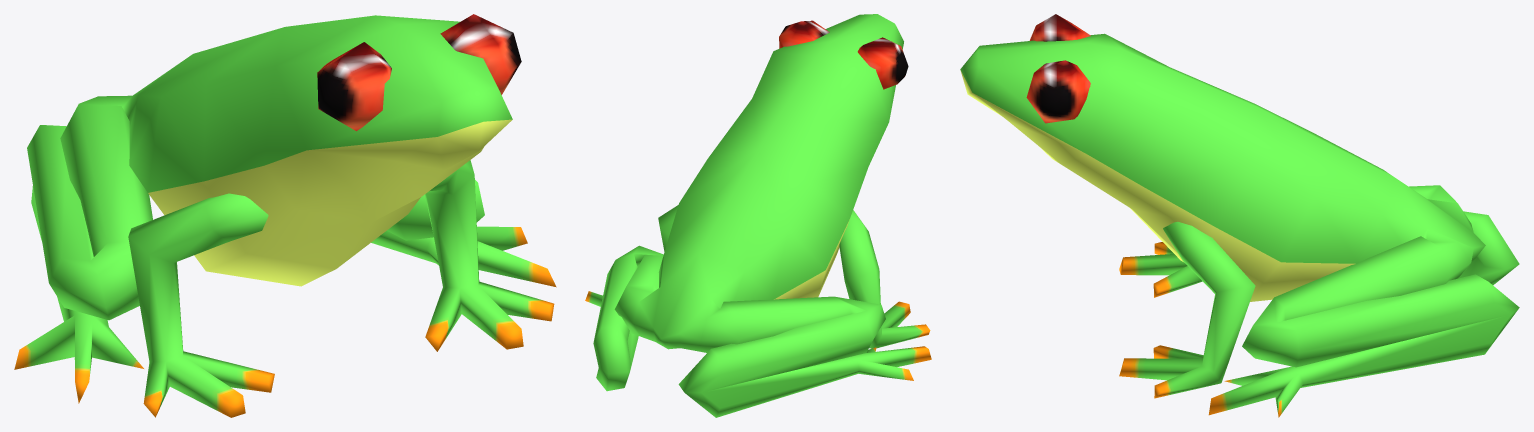
The model's file is Frog01.glb.
3 renders of one model, left to right at view 1: azimuth 30°, elevation 25°; view 2: azimuth 150°, elevation 25°; view 3: azimuth 270°, elevation 25°, orthographic. The views are drawn at different scales.
Visible parts, largest first — view 1: Frog01; view 2: Frog01; view 3: Frog01.
Part boxes in pixels (x1,y1,x2,y2): Frog01: [14, 14, 556, 417]; Frog01: [585, 14, 931, 417]; Frog01: [960, 14, 1519, 417].
Size of what is drawn, in the model's own units: 0.2855 by 0.2053 by 0.3589.
1 material, 1 textured.
